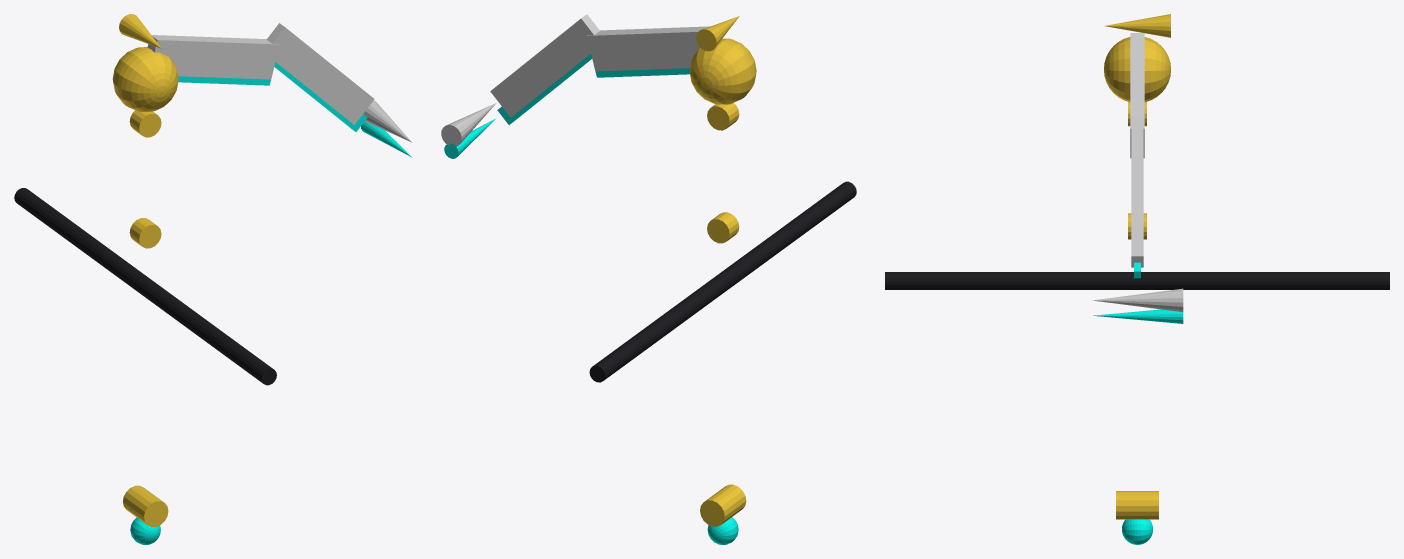
File: reaper_scythe.obj
The picture shows the model from 3 angles, left to right: view 1: azimuth 30°, elevation 25°; view 2: azimuth 150°, elevation 25°; view 3: azimuth 270°, elevation 25°; orthographic projection. The views are drawn at different scales.
Parts seen in each view (by area): view 1: Shaft, Blade_Spine_1, Blade_Spine_2, Top_Skull, Pommel_Gold, Ring_Mount_2, Blade_Spine_Tip, Top_Spike, Ring_Mount_1, Energy_Edge_2, Energy_Edge_1, Pommel_Gem (+1 smaller); view 2: Shaft, Blade_Spine_1, Blade_Spine_2, Top_Skull, Pommel_Gold, Blade_Spine_Tip, Ring_Mount_2, Top_Spike, Ring_Mount_1, Energy_Edge_2, Energy_Edge_1, Pommel_Gem (+1 smaller); view 3: Shaft, Top_Skull, Blade_Spine_2, Blade_Spine_1, Pommel_Gold, Blade_Spine_Tip, Top_Spike, Energy_Edge_Tip, Pommel_Gem.
Part boxes in pixels (x1,y1,x2,y2): Shaft: (14, 188, 276, 385); Blade_Spine_1: (147, 35, 279, 79); Blade_Spine_2: (267, 23, 374, 124); Top_Skull: (112, 47, 178, 111); Pommel_Gold: (123, 485, 168, 526); Ring_Mount_2: (129, 218, 161, 248); Blade_Spine_Tip: (363, 100, 411, 142); Top_Spike: (119, 14, 161, 48); Ring_Mount_1: (129, 110, 161, 137); Energy_Edge_2: (274, 62, 367, 131); Energy_Edge_1: (178, 76, 270, 85); Pommel_Gem: (130, 517, 160, 544); Shaft: (589, 181, 856, 382); Blade_Spine_1: (587, 26, 709, 71); Blade_Spine_2: (490, 14, 599, 117); Top_Skull: (689, 38, 756, 104); Pommel_Gold: (700, 484, 746, 526); Blade_Spine_Tip: (441, 103, 496, 146); Ring_Mount_2: (707, 212, 739, 243); Top_Spike: (696, 16, 739, 51); Ring_Mount_1: (707, 103, 739, 130); Energy_Edge_2: (497, 54, 591, 124); Energy_Edge_1: (595, 68, 689, 77); Pommel_Gem: (707, 517, 738, 544); Shaft: (885, 272, 1389, 289); Top_Skull: (1104, 37, 1170, 101); Blade_Spine_2: (1131, 116, 1143, 267); Blade_Spine_1: (1130, 33, 1144, 158); Pommel_Gold: (1116, 491, 1158, 519); Blade_Spine_Tip: (1092, 288, 1183, 312); Top_Spike: (1105, 14, 1170, 37); Energy_Edge_Tip: (1093, 309, 1183, 323); Pommel_Gem: (1122, 519, 1152, 544).
Size of the model in its own units: 1.39 by 2.43 by 2.1.
